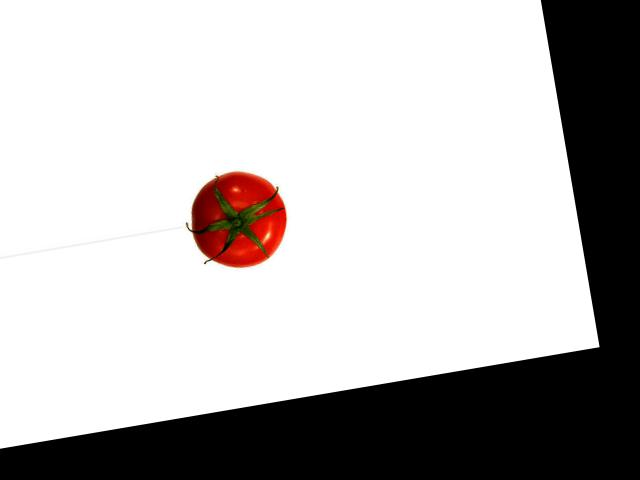tomato: (184, 164, 294, 274)
